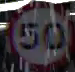Speed limit: (7, 1, 74, 68)
